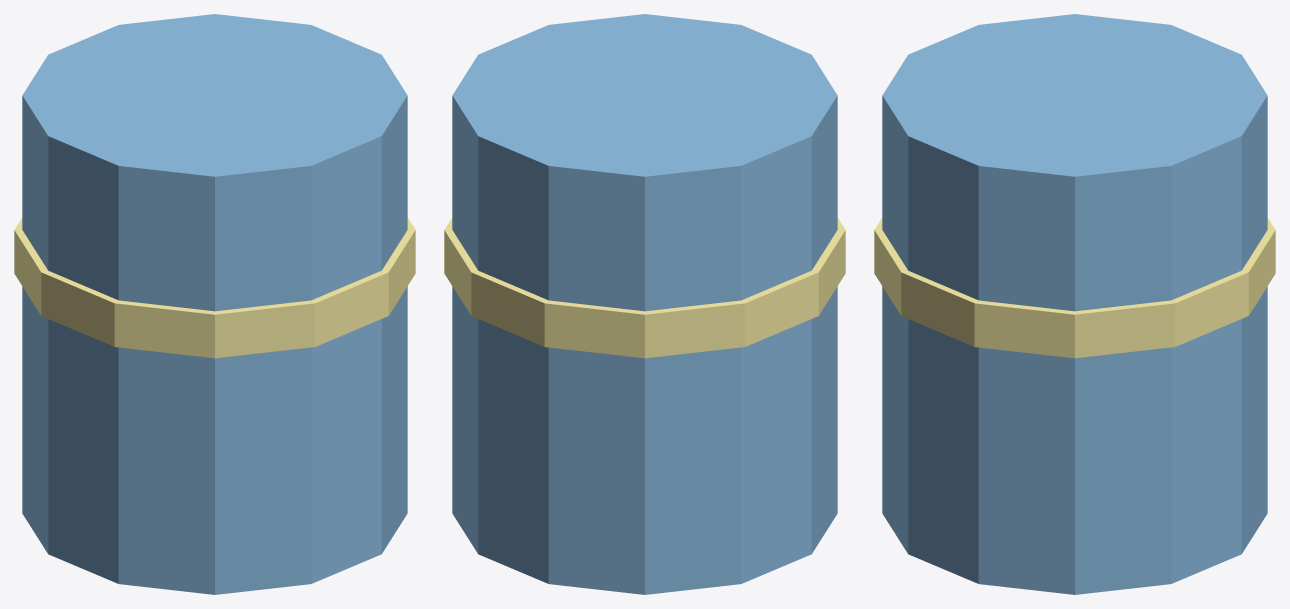
The model's file is barrel-blue.glb.
3 views of the same model, side by side, from view 1: azimuth 30°, elevation 25°; view 2: azimuth 150°, elevation 25°; view 3: azimuth 270°, elevation 25° (orthographic).
Parts seen in each view (by area): view 1: barrel, band; view 2: barrel, band; view 3: barrel, band.
Boxes of the visible parts, left/top/right/bottom form: barrel: left=22, top=14, right=407, bottom=594; band: left=14, top=218, right=415, bottom=358; barrel: left=452, top=14, right=837, bottom=594; band: left=444, top=218, right=845, bottom=358; barrel: left=882, top=14, right=1267, bottom=594; band: left=874, top=218, right=1275, bottom=358.
Size of the model in its own units: 1 by 1.15 by 1.
